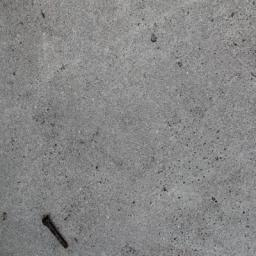FOD: (41, 211, 73, 251)
